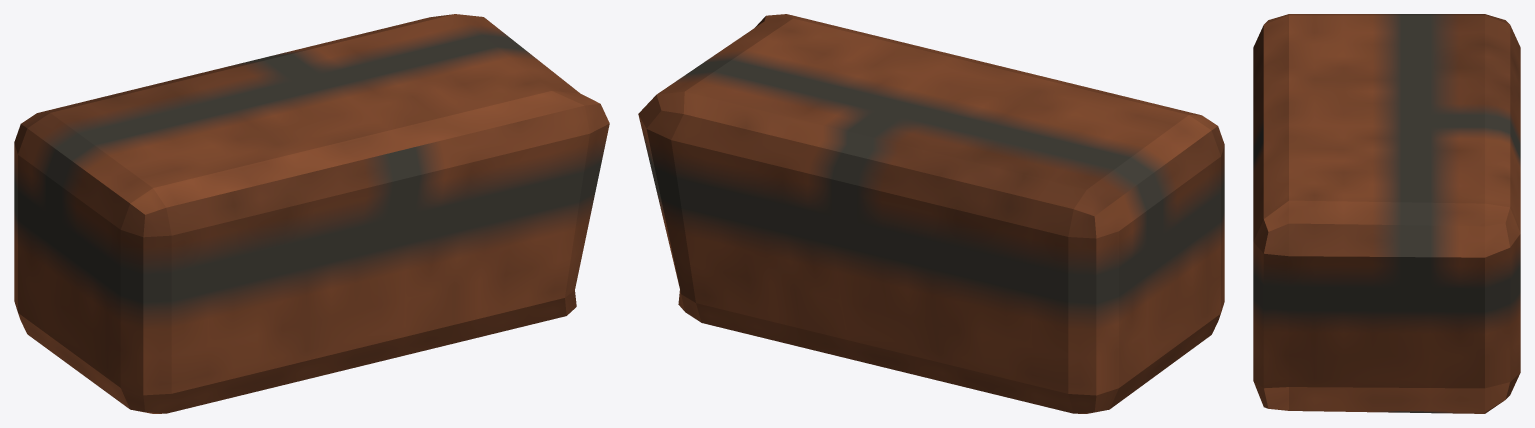
The model's file is blast-fragment.glb.
3 views of the same model, side by side, from view 1: azimuth 30°, elevation 25°; view 2: azimuth 150°, elevation 25°; view 3: azimuth 270°, elevation 25° (orthographic). The views are drawn at different scales.
Visible parts, largest first — view 1: chipped masonry fragment; view 2: chipped masonry fragment; view 3: chipped masonry fragment.
Boxes of the visible parts, x1,y1,x2,y2 form: chipped masonry fragment: (14, 14, 609, 413); chipped masonry fragment: (638, 14, 1224, 413); chipped masonry fragment: (1253, 14, 1520, 413).
Bounding box in the file's own units: 0.1795 × 0.08 × 0.09.
1 material, 1 textured.
